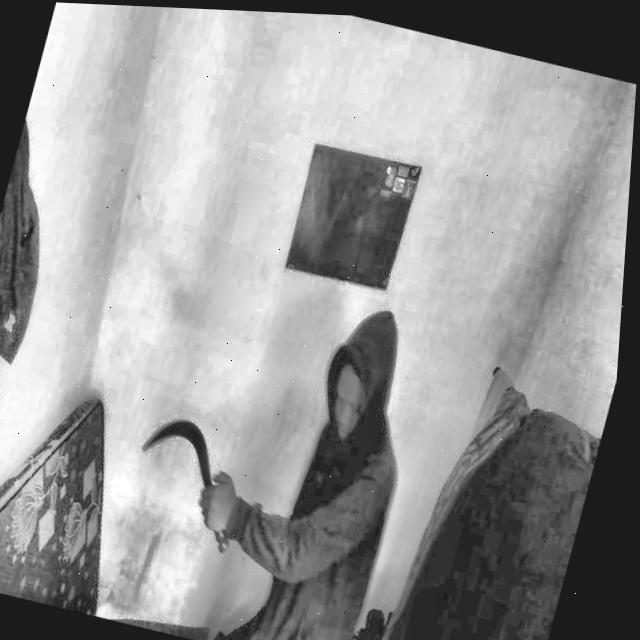celurit: (137, 407, 233, 576)
